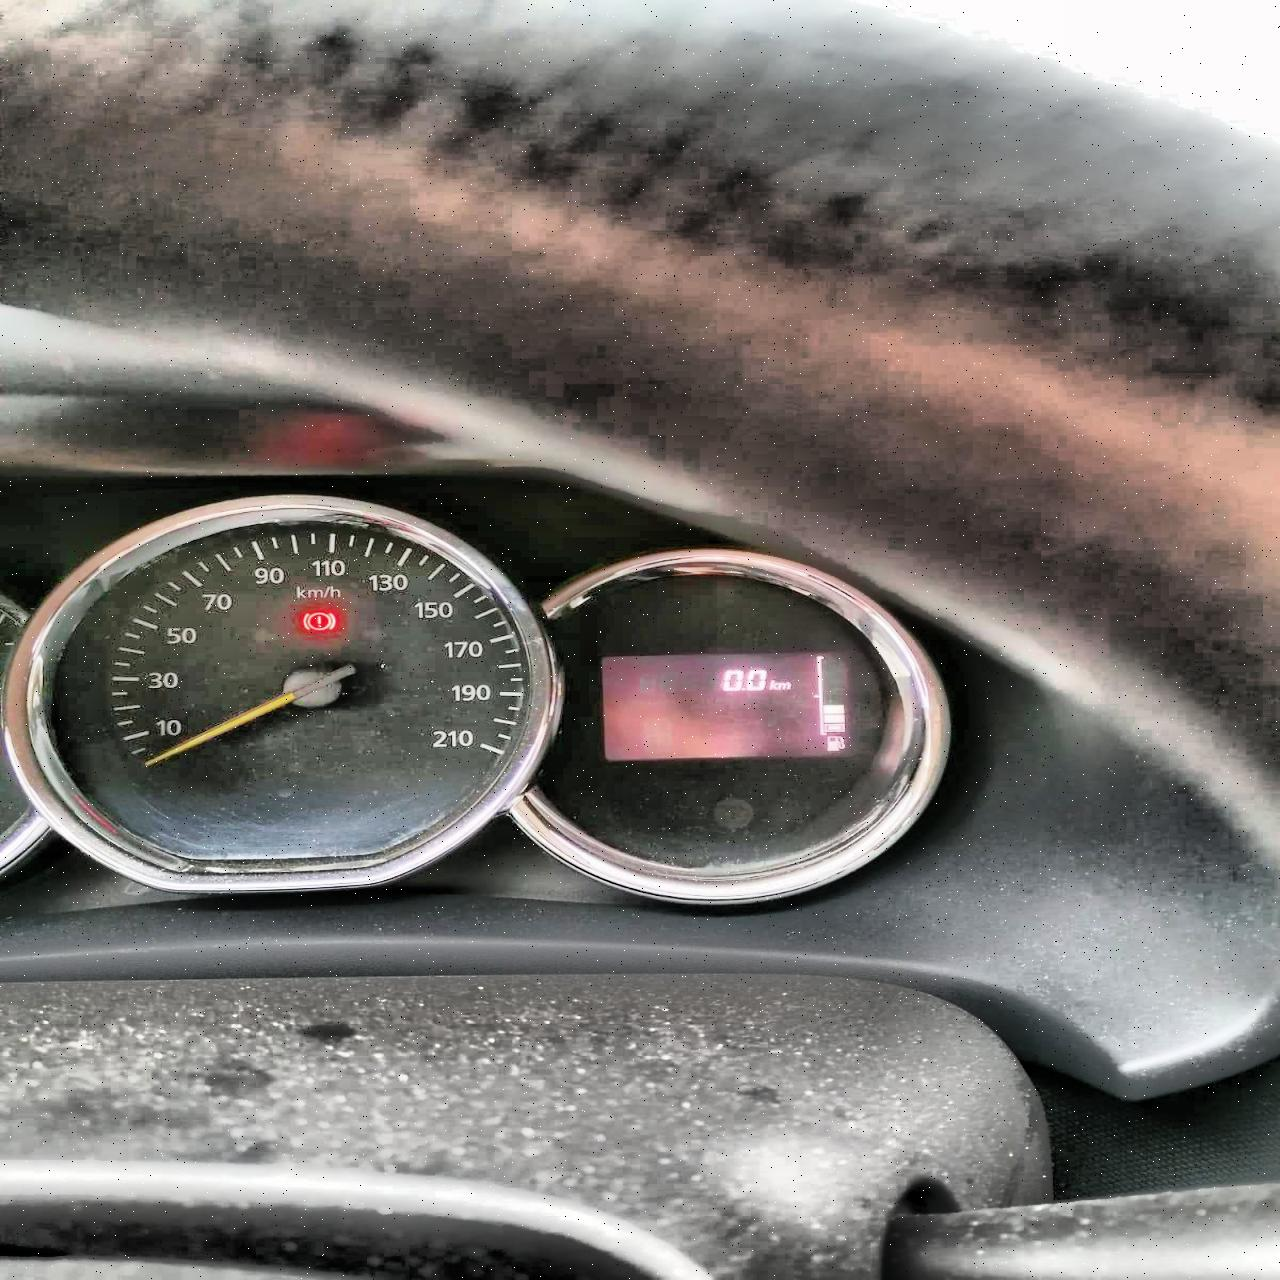-: (741, 688, 744, 690)
0: (722, 669, 743, 690), (745, 668, 765, 689)
X: (768, 679, 777, 689), (776, 682, 790, 689)
odometer: (599, 648, 856, 762)
